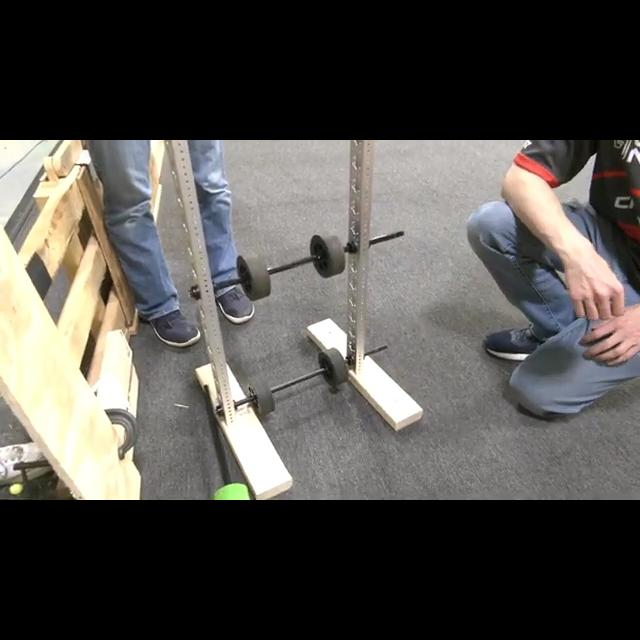ALGAE: (210, 481, 252, 499)
